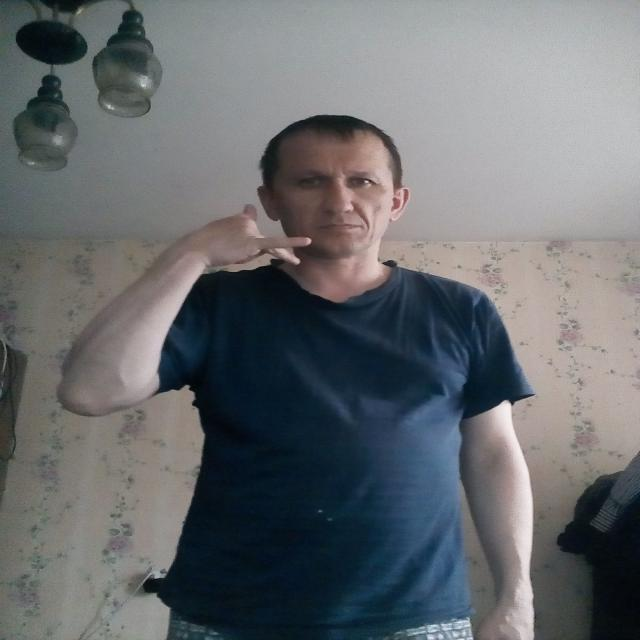call: (188, 202, 316, 270)
